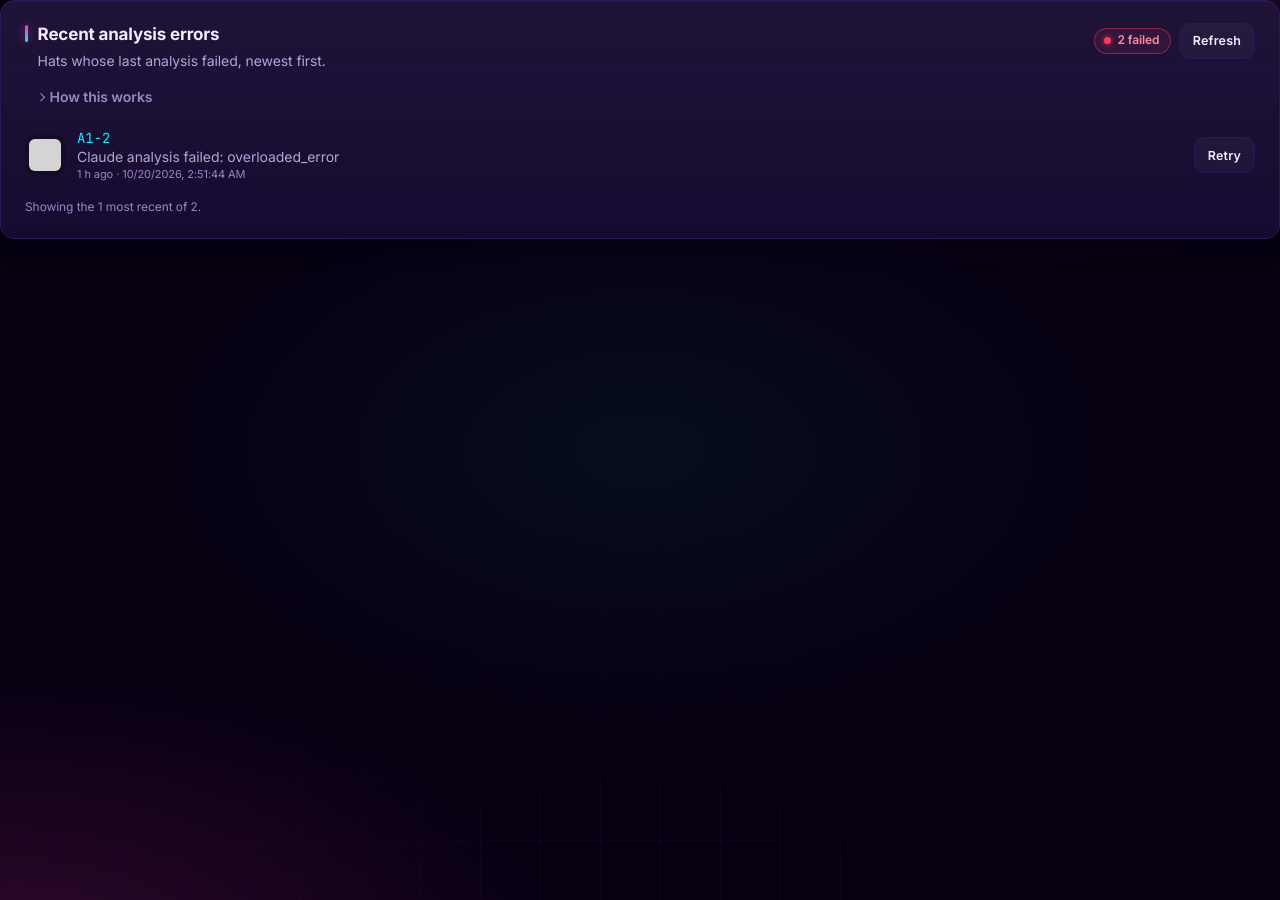
Test: RecentErrorsCard › keeps a failed retry's reason on its own row
The width and height of the screenshot is (1280, 900).
Click the button with aria-label "Retry analysis for A1-2": (1224,155) [1194,137,1255,173]
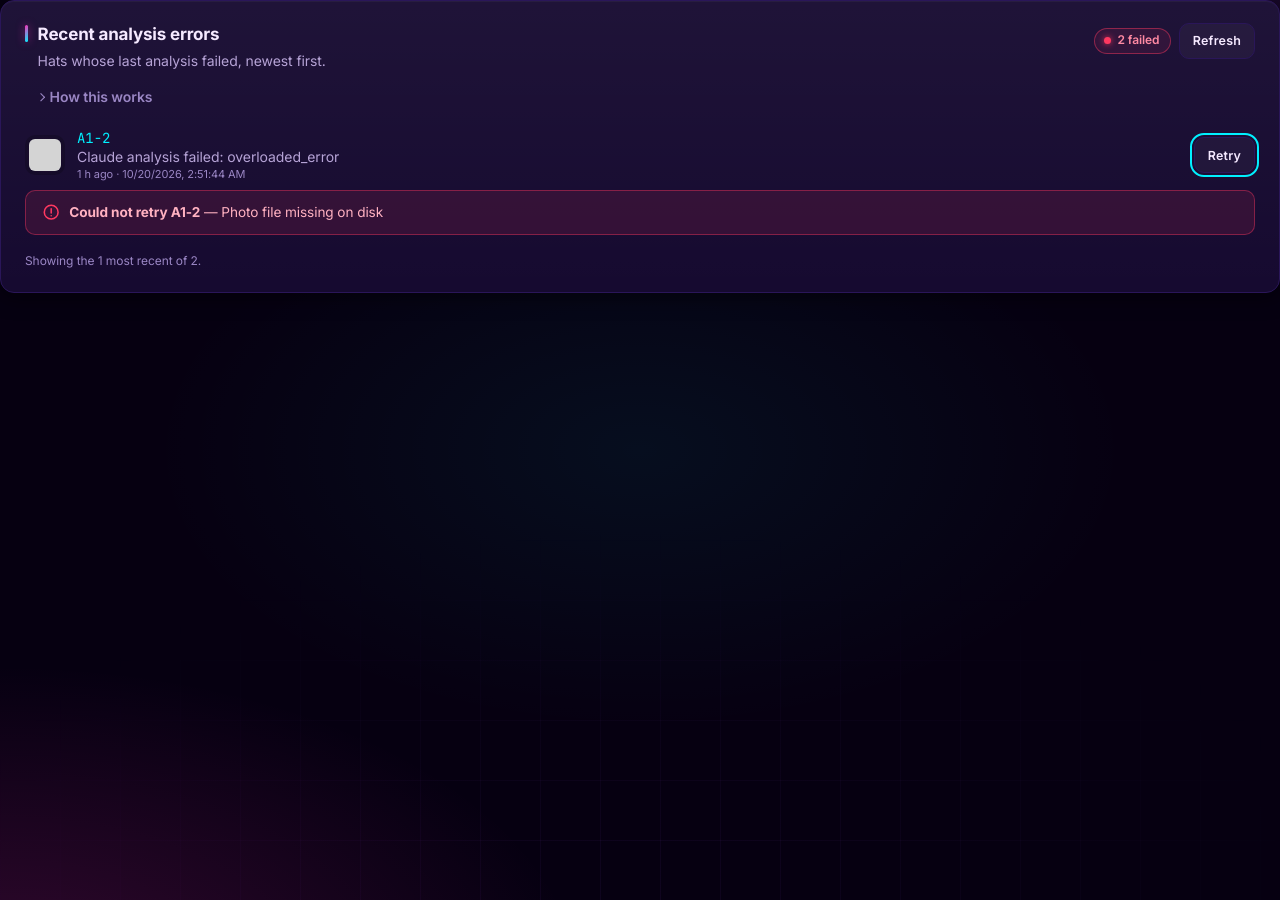
expect the message shows "Could not retry A1-2": met, box [69,204,200,220]
expect the message shows "Photo file missing on disk": met, box [221,204,383,220]
